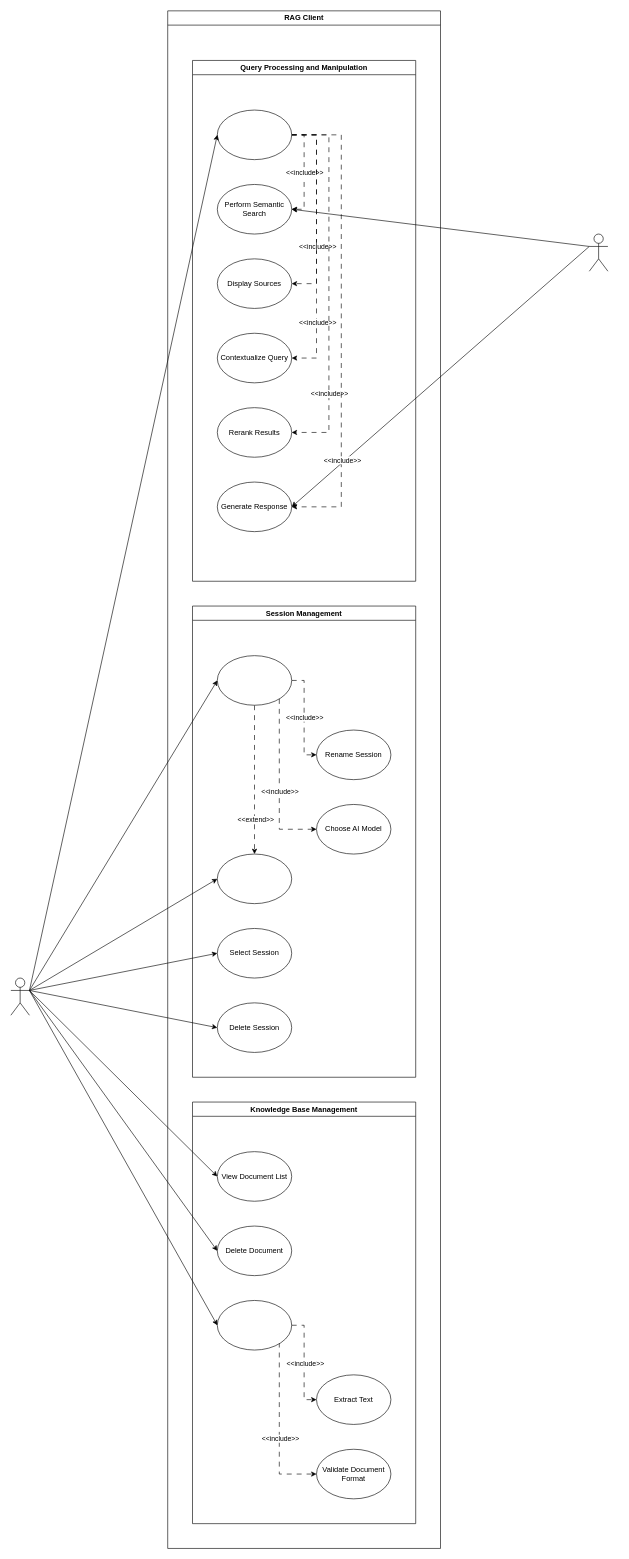
This 629x1559 diagram has some shape labels left out. The centre of each missing label's shape, as x and y in pixels:
Create Session: [254,878]
Edit Session: [254,680]
Import Document: [254,1325]
OpenAI API: [598,252]
Submit Query: [254,134]
User: [19,996]
